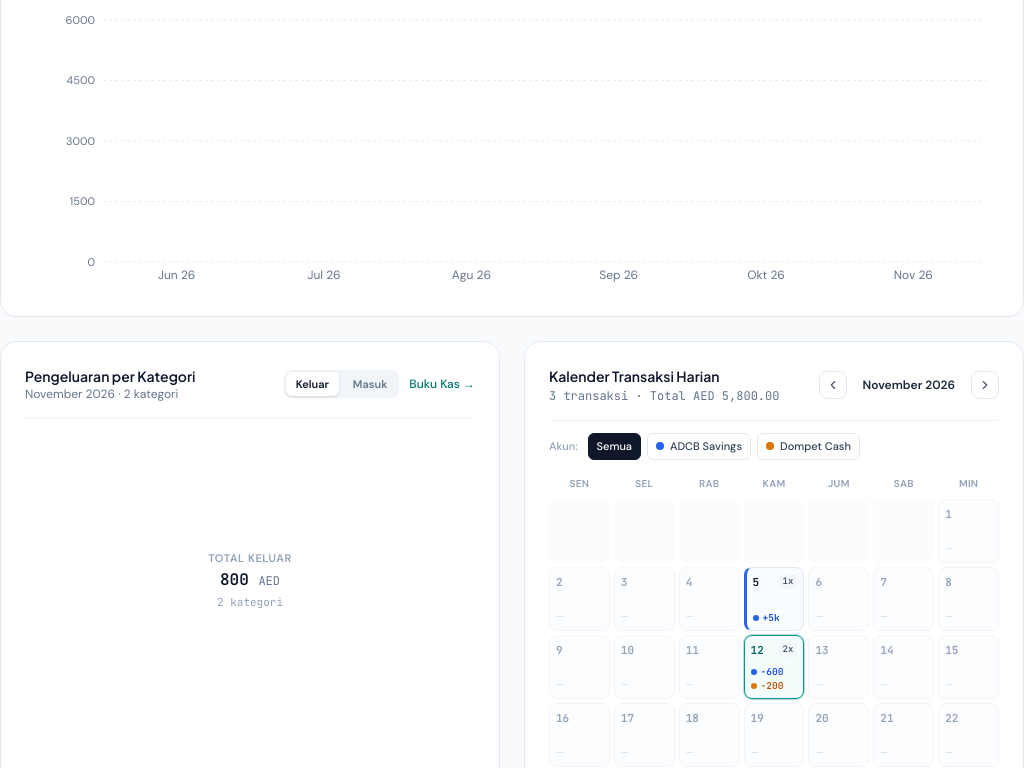
Test: DashboardView (KPI Strip, Modern Pie Chart & Daily Calendar) › renders KPI strip, Pengeluaran per Kategori breakdown, and toggles between Keluar & Masuk
(page scrolled)
Expected: the heading "Pengeluaran per Kategori" is shown, [25, 366, 196, 386]
Switch pie toggle to Masuk (Income)
Click the button "Masuk" at coordinates (370, 384), box [343, 372, 397, 396]
(page scrolled)
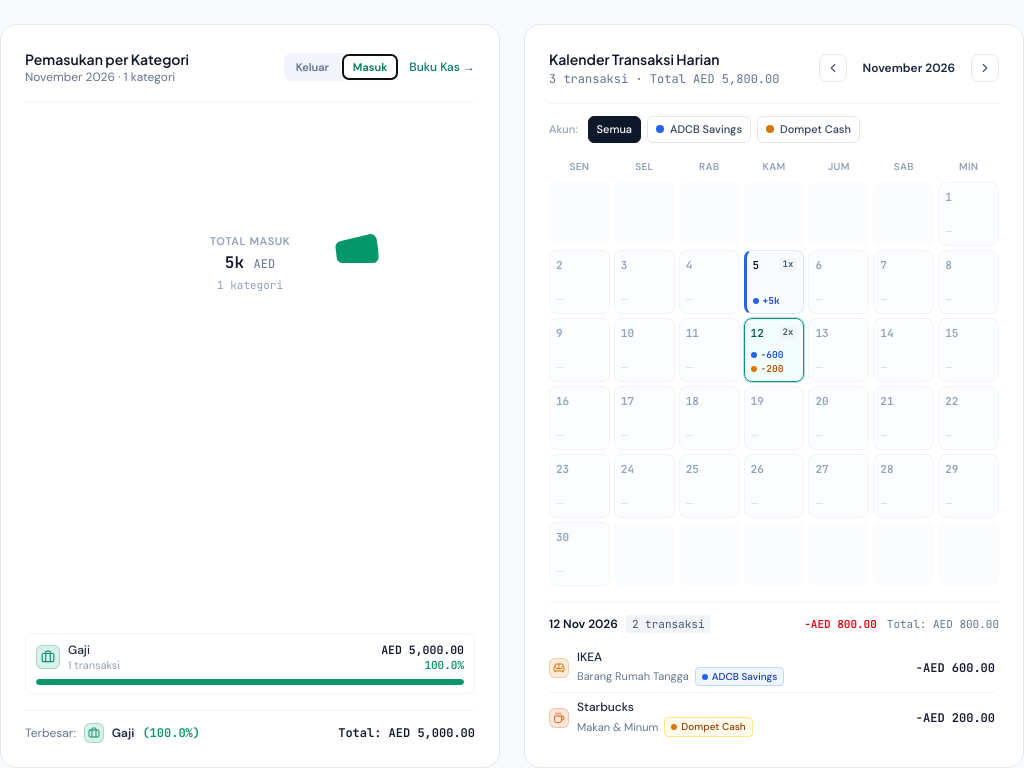
Expected: the heading "Pemasukan per Kategori" is shown, [25, 49, 189, 69]
Expected: the text "100.0%" is shown, [424, 658, 464, 672]
